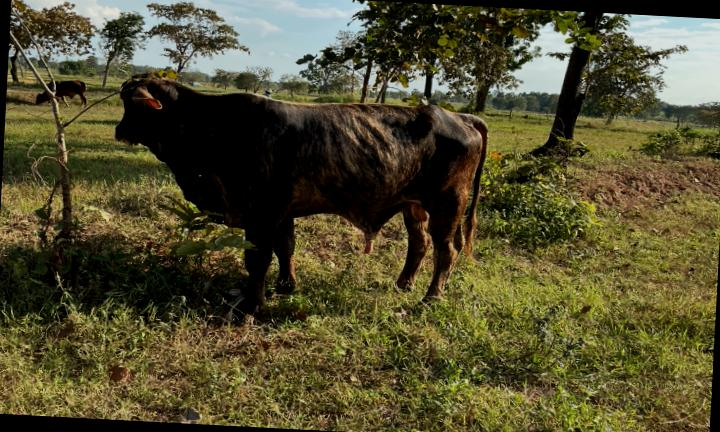Charolais: (116, 78, 487, 310)
